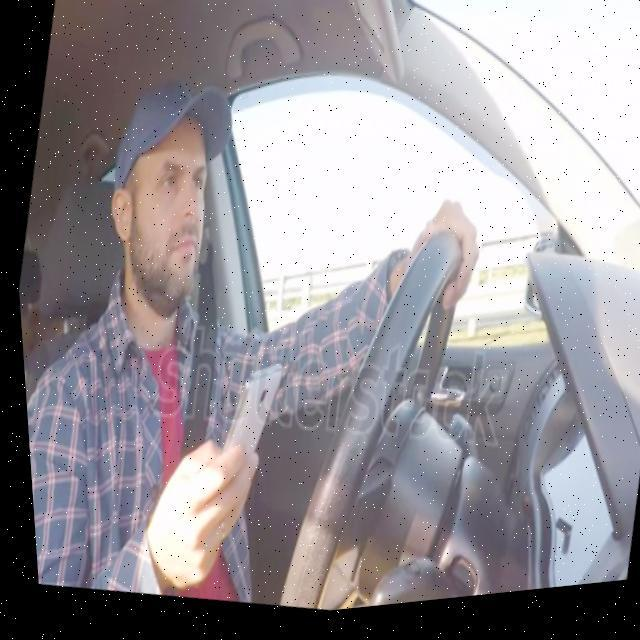PhoneCall: (205, 357, 287, 496)
